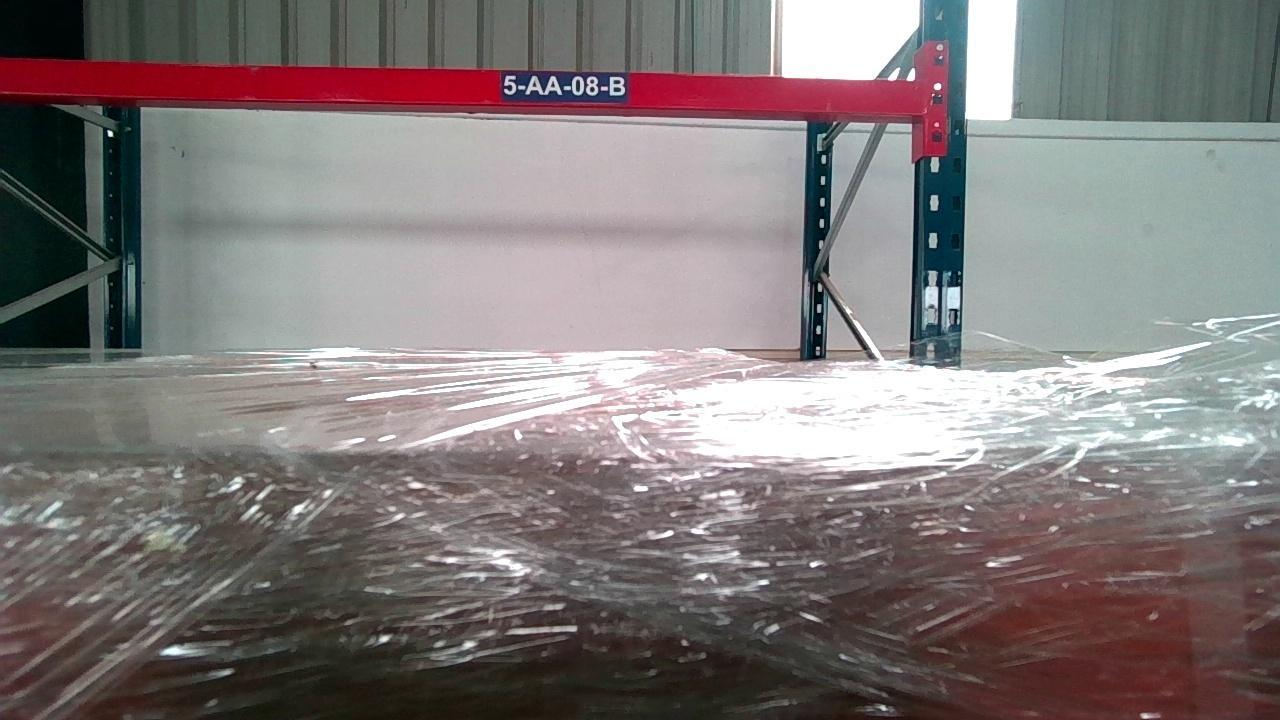h_rack: (0, 61, 932, 119)
